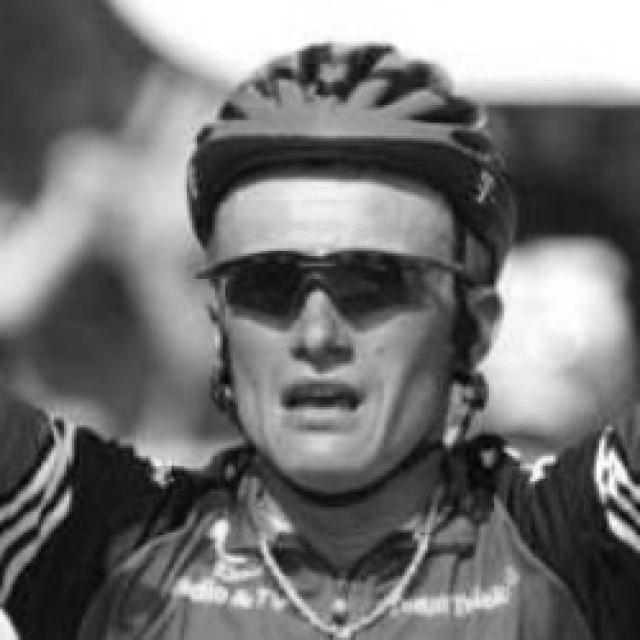fake: (213, 242, 430, 312)
real: (211, 179, 456, 487)
